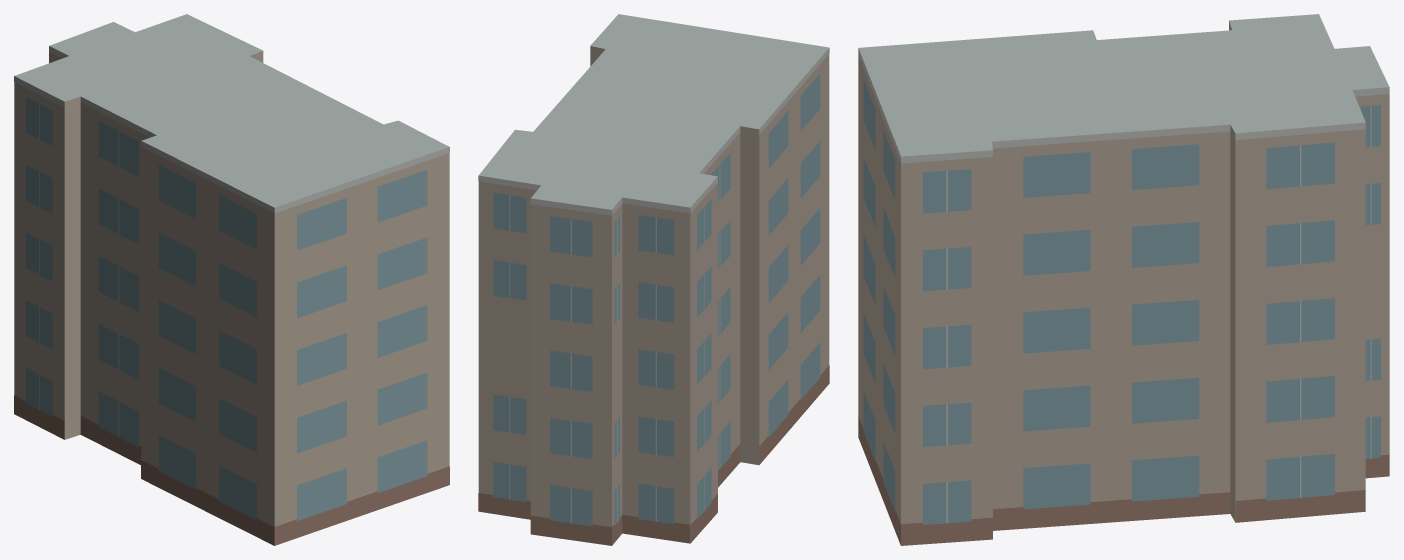
The model's file is survey-upis-32766500.glb.
3 renders of one model, left to right at view 1: azimuth 30°, elevation 25°; view 2: azimuth 150°, elevation 25°; view 3: azimuth 270°, elevation 25°, orthographic. The views are drawn at different scales.
Visible parts, largest first — view 1: survey-upis-32766500.tmp; view 2: survey-upis-32766500.tmp; view 3: survey-upis-32766500.tmp.
Part boxes in pixels (x1,y1,x2,y2): survey-upis-32766500.tmp: (14,14,449,545); survey-upis-32766500.tmp: (478,14,829,545); survey-upis-32766500.tmp: (858,14,1389,545).
Size of the model in its own units: 11.01 by 14 by 17.33.
